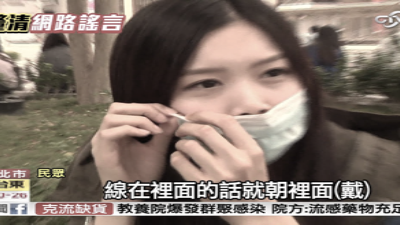mask_weared_incorrect: (171, 47, 313, 169)
